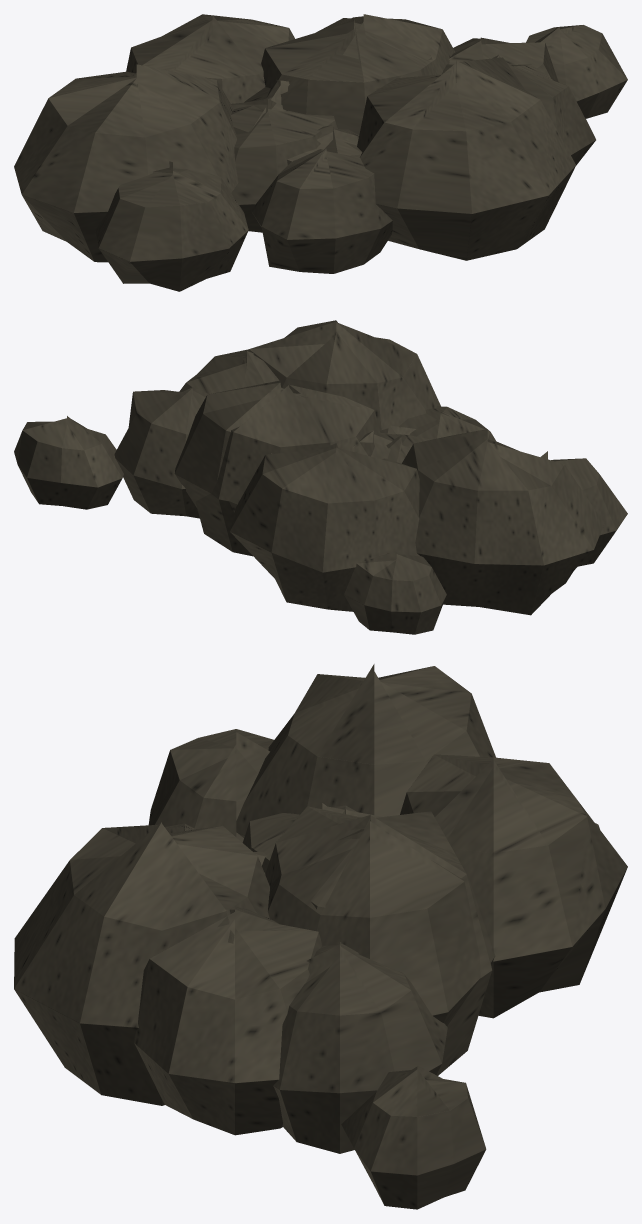
File: PROP-7FF3B6AEE82E_lod1.glb
3 views of the same model, one above another, from view 1: azimuth 30°, elevation 25°; view 2: azimuth 150°, elevation 25°; view 3: azimuth 270°, elevation 25° (orthographic). The views are drawn at different scales.
Visible parts, largest first — view 1: rock.008; view 2: rock.008; view 3: rock.008.
Boxes of the visible parts, x1,y1,x2,y2 form: rock.008: [14, 14, 627, 291]; rock.008: [14, 320, 627, 634]; rock.008: [14, 664, 627, 1209].
Bounding box in the file's own units: 1.51 × 0.3992 × 0.9682.
1 material, 1 textured.
